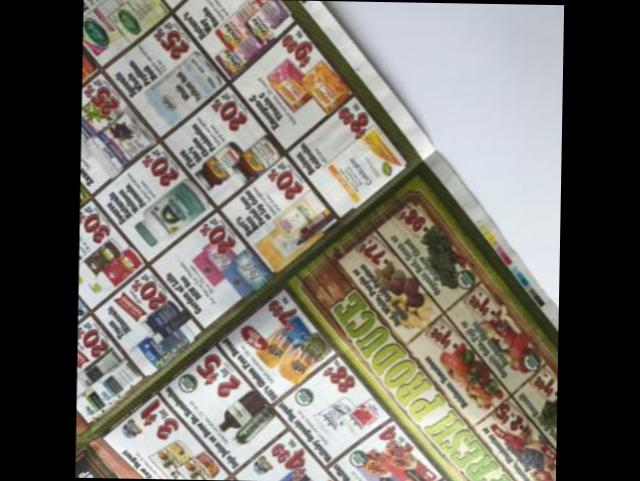cardboard paper: (75, 0, 558, 481)
